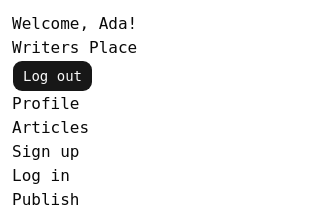
Test: MainPage › logs out the signed-in user
Expected: the text "Welcome, Ada!" is shown, [12,14,137,33]
Click the button "Log out".
click(52, 76)  # box [12,60,93,92]
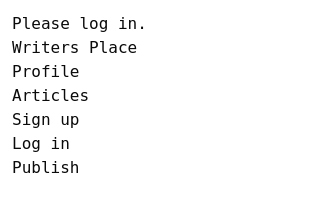
Expected: the text "Please log in." is shown, [12,14,147,33]
Expected: the button "Log out" is gone
